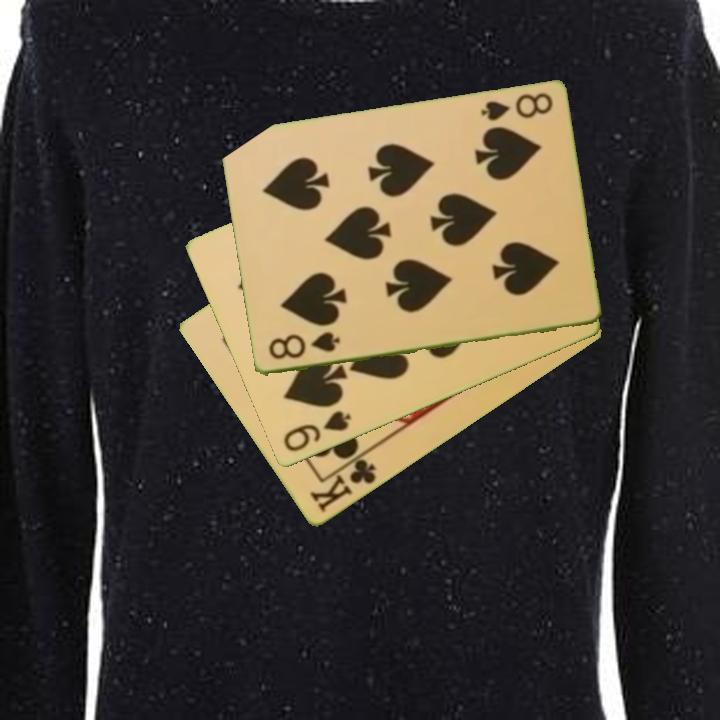8s: (264, 328, 343, 363), (477, 90, 555, 125)
9s: (279, 407, 354, 456)
Kc: (306, 448, 379, 516)
